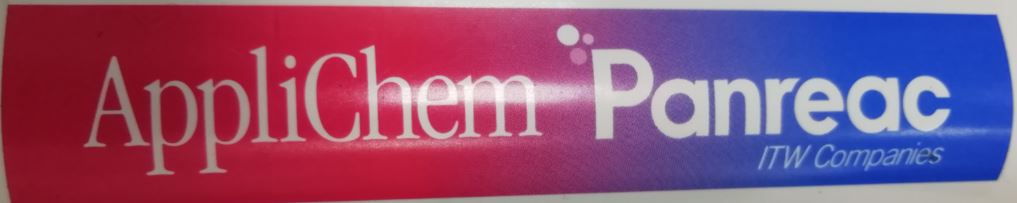ApplichemPanreac: (85, 17, 953, 177)
